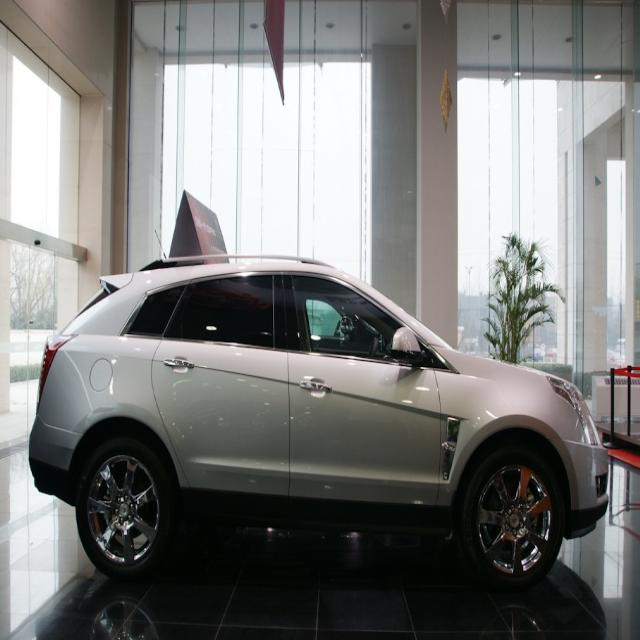back_right_side_light: (37, 332, 77, 410)
door: (147, 285, 296, 519)
front_bumper: (560, 440, 612, 538)
front_right_side_door: (281, 266, 444, 524)
front_right_side_light: (547, 374, 602, 447)
front_right_side_mirror: (391, 324, 427, 368)
rear_bumper: (29, 411, 83, 497)
wheel: (75, 438, 172, 578), (468, 449, 562, 586)
